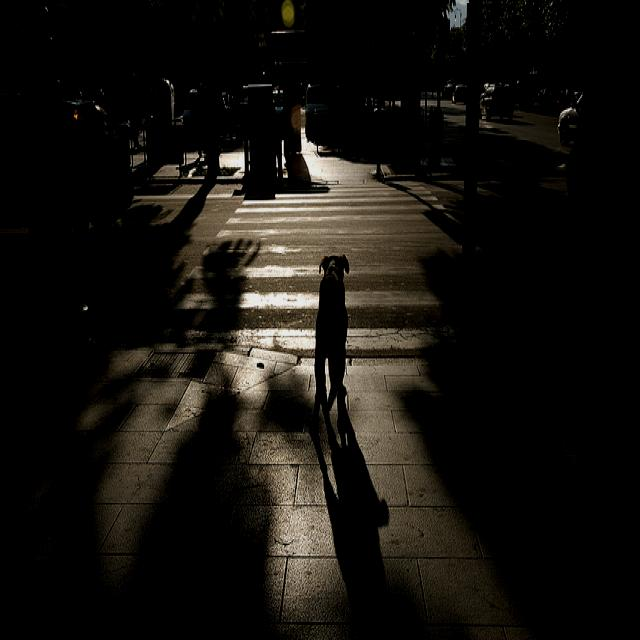Dog: (248, 247, 402, 456)
